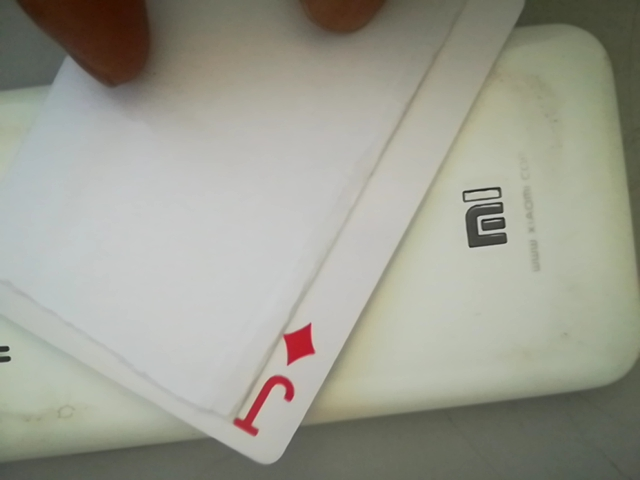fk j: (236, 318, 322, 448)
